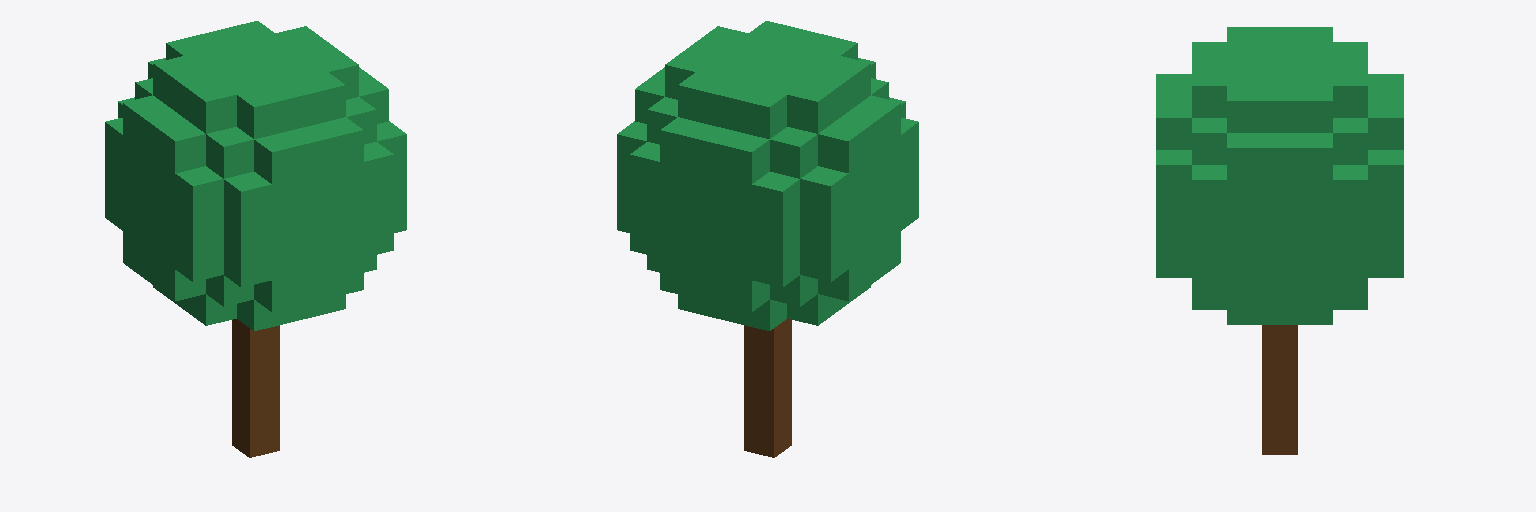
The picture shows the model from 3 angles: view 1: azimuth 30°, elevation 25°; view 2: azimuth 150°, elevation 25°; view 3: azimuth 270°, elevation 25°; orthographic projection.
Visible parts, largest first — view 1: Model; view 2: Model; view 3: Model.
Boxes of the visible parts, <box> form: Model: <box>105,21,406,457</box>; Model: <box>617,21,918,457</box>; Model: <box>1156,27,1403,454</box>.
Bounding box in the file's own units: 18.67 × 32 × 18.67.
1 materials, 1 textured.